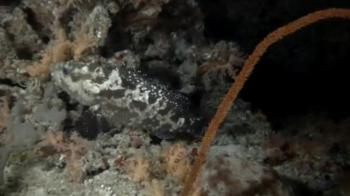Serranidae -Groupers-: (47, 58, 208, 142)
